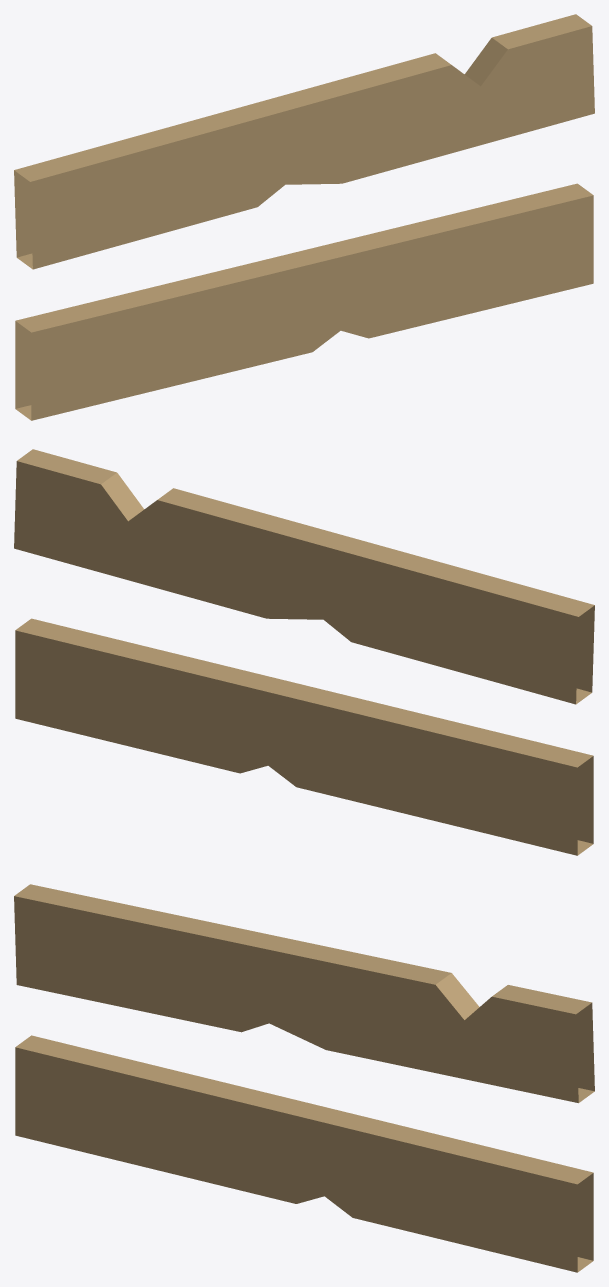
File: Hilly_Prop_Fence_Boards_1.fbx
3 views of the same model, one above another, from view 1: azimuth 30°, elevation 25°; view 2: azimuth 150°, elevation 25°; view 3: azimuth 330°, elevation 25° (orthographic).
Visible parts, largest first — view 1: object1, object2; view 2: object1, object2; view 3: object1, object2.
Boxes of the visible parts, x1=… form: object1: x1=15, y1=183, x2=593, y2=420; object2: x1=14, y1=14, x2=594, y2=269; object1: x1=15, y1=618, x2=593, y2=855; object2: x1=14, y1=449, x2=594, y2=704; object1: x1=15, y1=1035, x2=593, y2=1272; object2: x1=14, y1=884, x2=594, y2=1103.
Size of the model in its own units: 1 by 0.4384 by 0.05.
